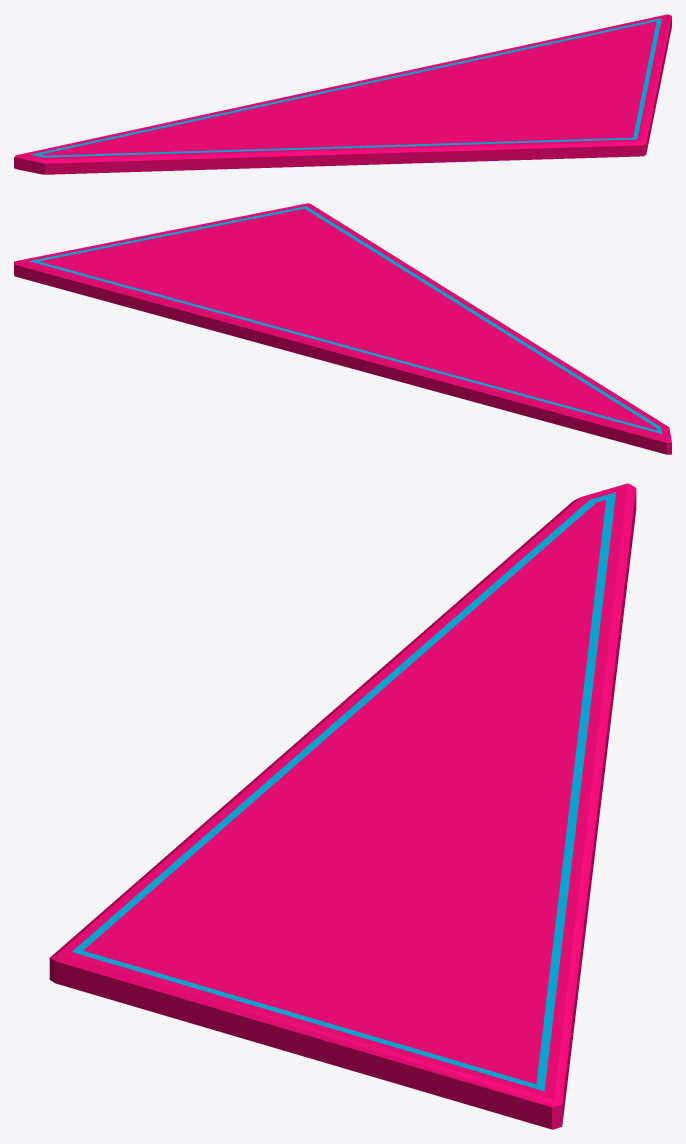
Rendered from Re_Board_Form_16.fbx.
3 renders of one model, top to bottom at view 1: azimuth 30°, elevation 25°; view 2: azimuth 150°, elevation 25°; view 3: azimuth 270°, elevation 25°, orthographic. The views are drawn at different scales.
Visible parts, largest first — view 1: Re_Board_Form_16; view 2: Re_Board_Form_16; view 3: Re_Board_Form_16.
Boxes of the visible parts, bbox=[...] form: Re_Board_Form_16: bbox=[14, 14, 671, 174]; Re_Board_Form_16: bbox=[14, 203, 671, 454]; Re_Board_Form_16: bbox=[49, 483, 636, 1129].
Bounding box in the file's own units: 13.93 × 0.3113 × 5.54.
